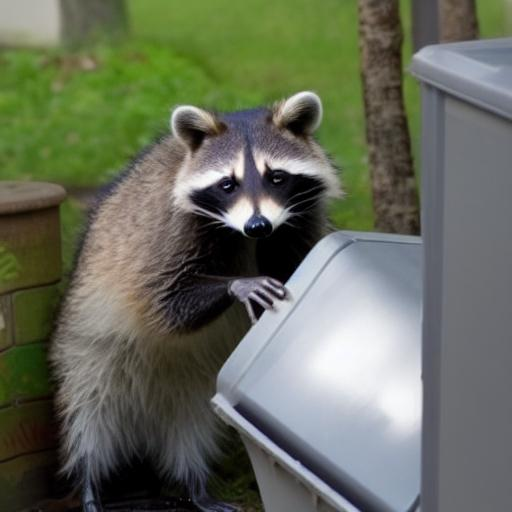raccoon: (37, 83, 348, 512)
